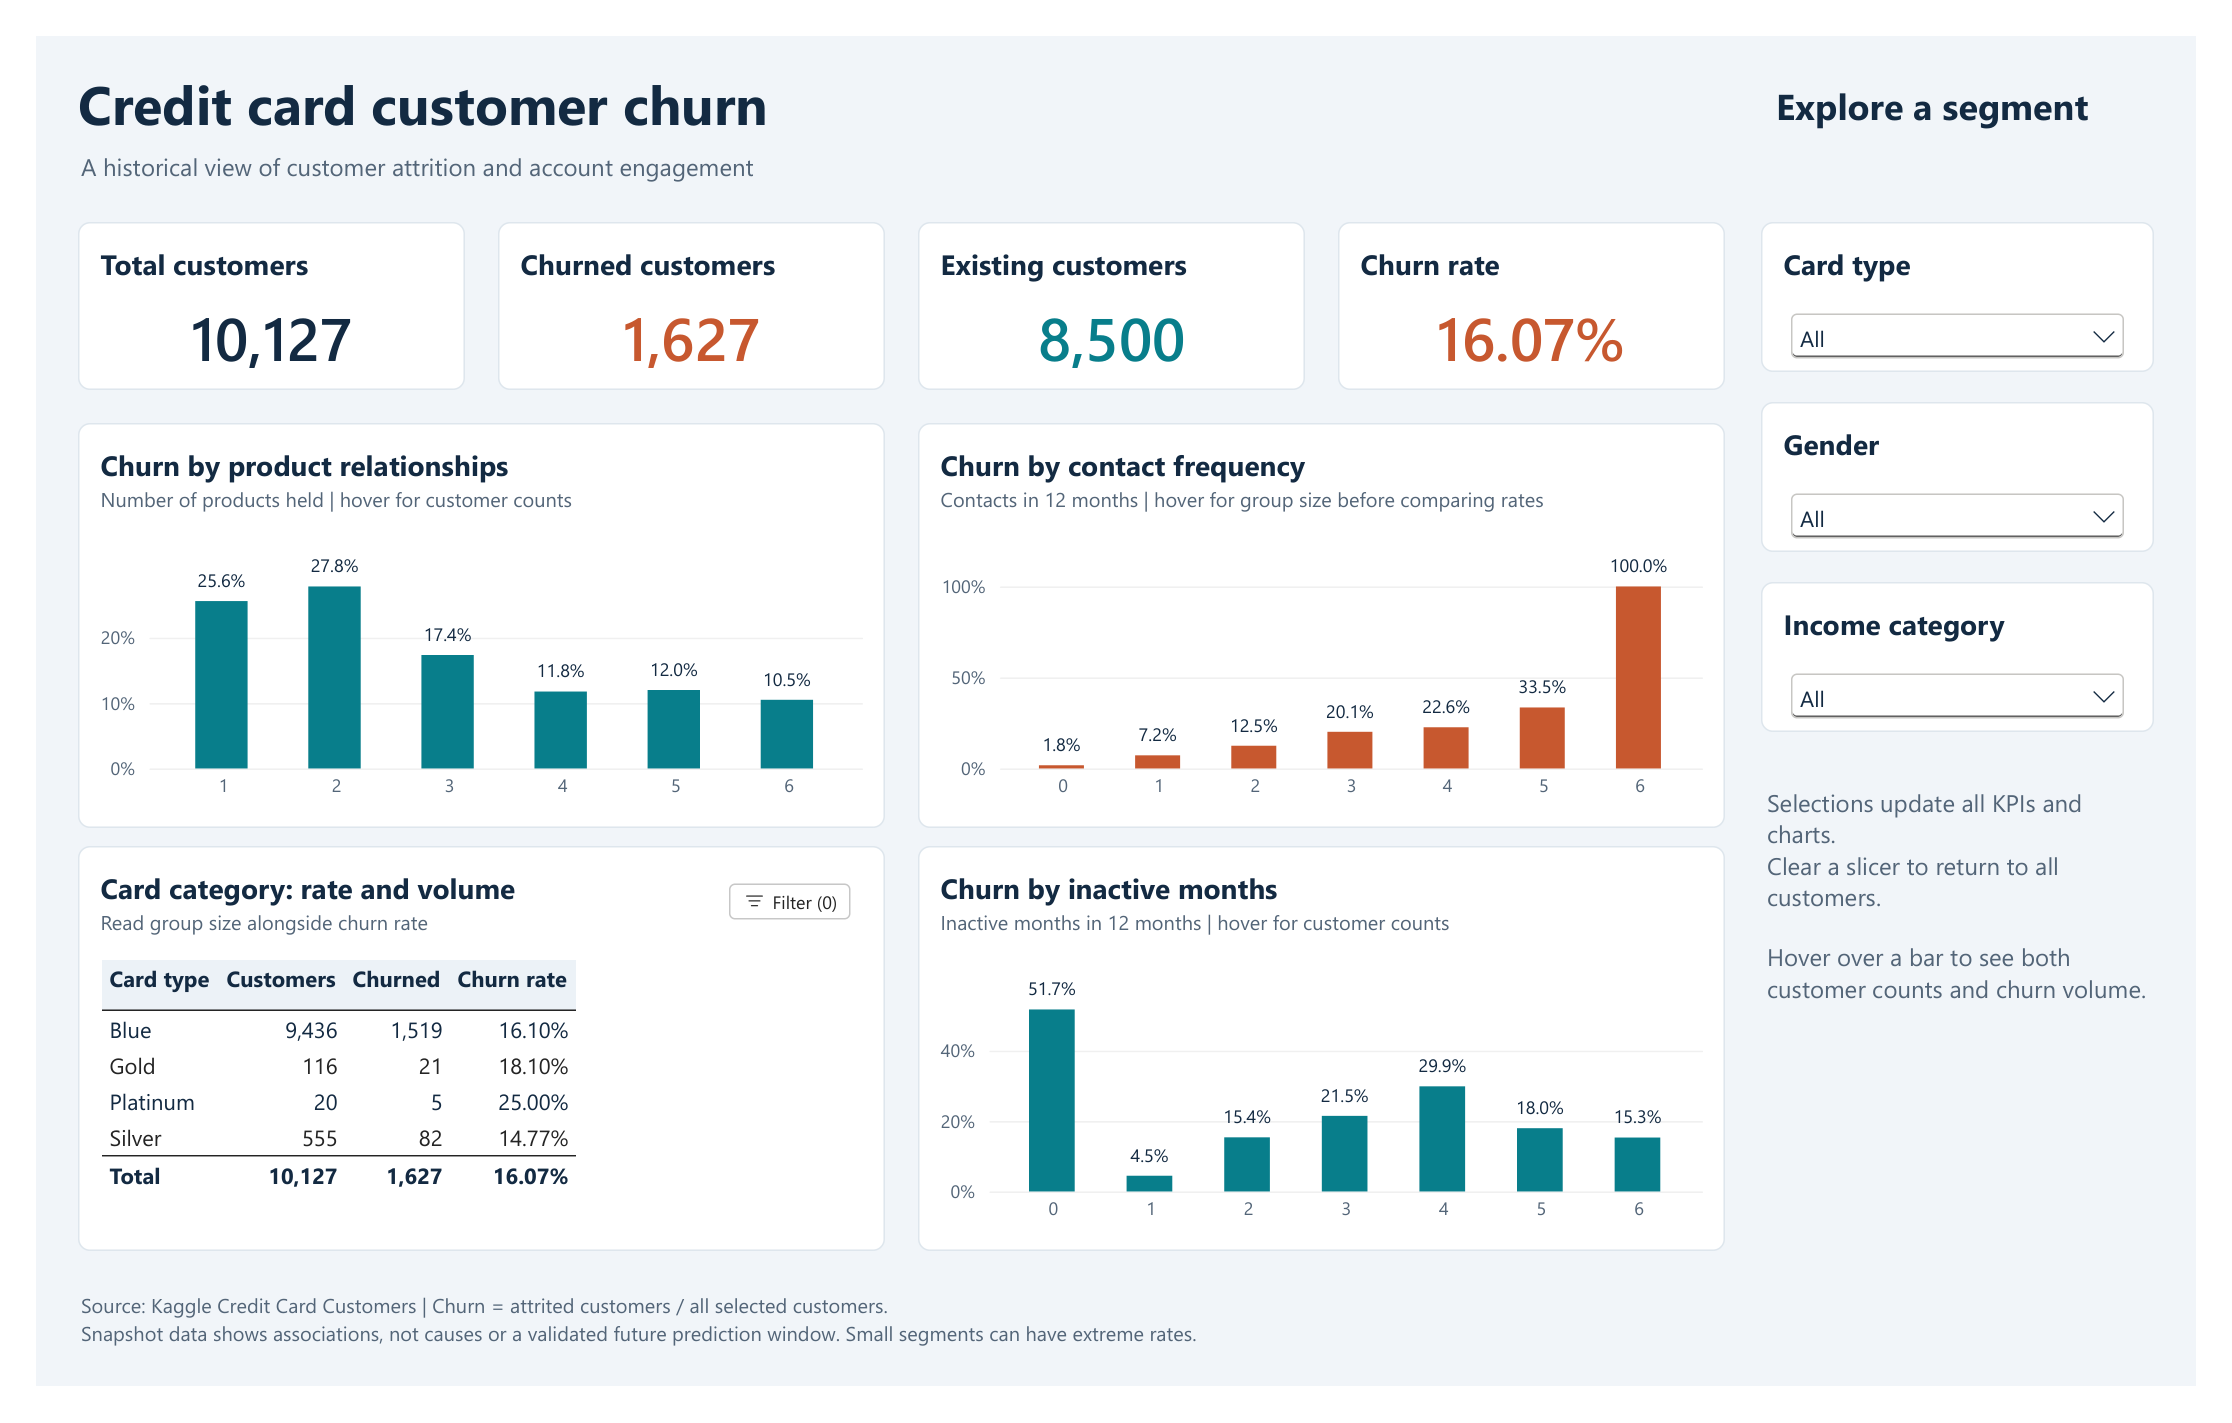

Layout of this report page (visuals, bound fields, positions):
{"tool":"powerbi","page":{"name":"Churn overview","canvas":[1440,900],"ordinal":0},"visuals":[{"type":"textbox","box":[28,20,1098,54],"z":0},{"type":"textbox","box":[30,76,1094,28],"z":1000},{"type":"textbox","box":[1160,30,250,40],"z":2000},{"type":"card","title":"Total customers","fields":{"Values":["Customers.Total Customers"]},"box":[28,124,258,112],"z":3000},{"type":"card","title":"Churned customers","fields":{"Values":["Customers.Churned Customers"]},"box":[308,124,258,112],"z":4000},{"type":"card","title":"Existing customers","fields":{"Values":["Customers.Existing Customers"]},"box":[588,124,258,112],"z":5000},{"type":"card","title":"Churn rate","fields":{"Values":["Customers.Churn Rate"]},"box":[868,124,258,112],"z":6000},{"type":"clusteredColumnChart","title":"Churn by product relationships","fields":{"Category":["Customers.Total_Relationship_Count"],"Y":["Customers.Churn Rate"]},"box":[28,258,538,270],"z":7000},{"type":"clusteredColumnChart","title":"Churn by contact frequency","fields":{"Category":["Customers.Contacts_Count_12_mon"],"Y":["Customers.Churn Rate"]},"box":[588,258,538,270],"z":8000},{"type":"clusteredColumnChart","title":"Churn by inactive months","fields":{"Category":["Customers.Months_Inactive_12_mon"],"Y":["Customers.Churn Rate"]},"box":[588,540,538,270],"z":9000},{"type":"tableEx","title":"Card category: rate and volume","fields":{"Values":["Customers.Card_Category","Customers.Total Customers","Customers.Churned Customers","Customers.Churn Rate"]},"box":[28,540,538,270],"z":10000},{"type":"slicer","title":"Card type","fields":{"Values":["Customers.Card_Category"]},"box":[1150,124,262,100],"z":11000},{"type":"slicer","title":"Gender","fields":{"Values":["Customers.Gender"]},"box":[1150,244,262,100],"z":12000},{"type":"slicer","title":"Income category","fields":{"Values":["Customers.Income_Category"]},"box":[1150,364,262,100],"z":13000},{"type":"textbox","box":[1154,500,254,160],"z":14000},{"type":"textbox","box":[30,836,1380,60],"z":15000}]}

Visuals, with their boxes in screenshot pixels (x1, y1, x2, y2), scaled from the page's 1440x900 canvas onto the 2232x1423 screenshot:
textbox: [43,32,1745,117]
textbox: [46,120,1742,164]
textbox: [1798,47,2186,111]
"Total customers" card: [43,196,443,373]
"Churned customers" card: [477,196,877,373]
"Existing customers" card: [911,196,1311,373]
"Churn rate" card: [1345,196,1745,373]
"Churn by product relationships" clusteredColumnChart: [43,408,877,835]
"Churn by contact frequency" clusteredColumnChart: [911,408,1745,835]
"Churn by inactive months" clusteredColumnChart: [911,854,1745,1281]
"Card category: rate and volume" tableEx: [43,854,877,1281]
"Card type" slicer: [1782,196,2189,354]
"Gender" slicer: [1782,386,2189,544]
"Income category" slicer: [1782,576,2189,734]
textbox: [1789,791,2182,1044]
textbox: [46,1322,2186,1417]
